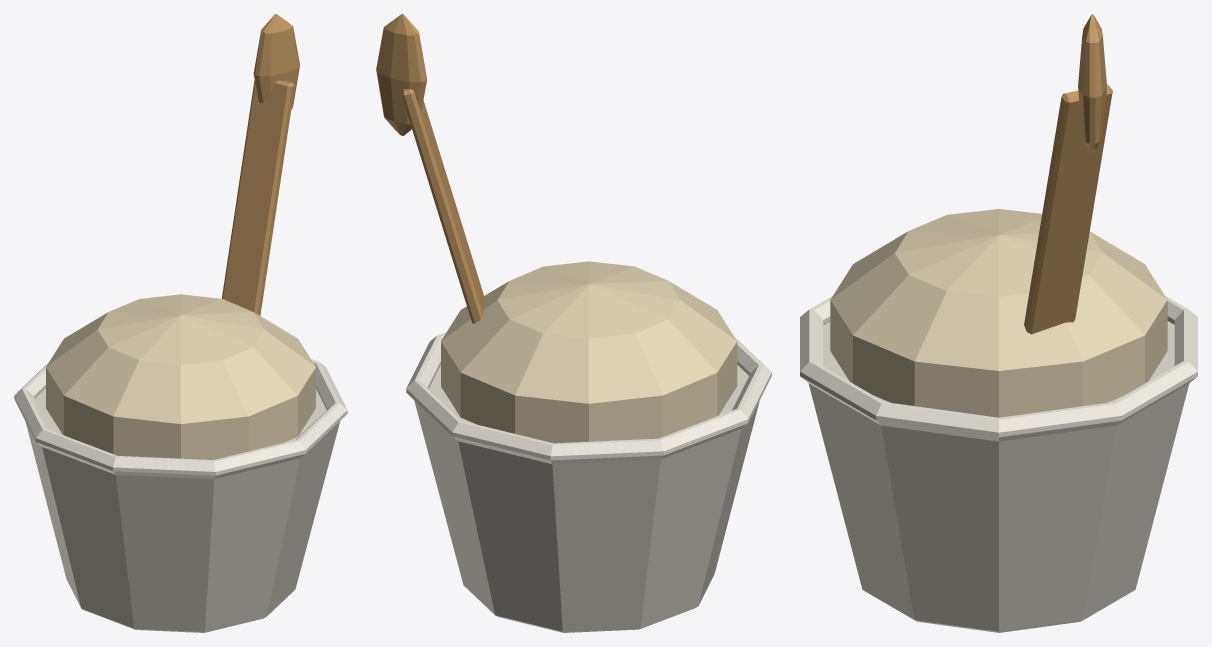
Rendered from b16_ice_cream_cup_with_spoon.glb.
3 views of the same model, side by side, from view 1: azimuth 30°, elevation 25°; view 2: azimuth 150°, elevation 25°; view 3: azimuth 270°, elevation 25° (orthographic). The views are drawn at different scales.
Parts seen in each view (by area): view 1: b16_ice_cream_cup_with_spoon; view 2: b16_ice_cream_cup_with_spoon; view 3: b16_ice_cream_cup_with_spoon.
Part boxes in pixels (bbox=[...]): b16_ice_cream_cup_with_spoon: bbox=[14, 14, 347, 632]; b16_ice_cream_cup_with_spoon: bbox=[376, 14, 771, 632]; b16_ice_cream_cup_with_spoon: bbox=[800, 14, 1197, 632].
Size of the model in its own units: 0.088 by 0.1435 by 0.0808.
